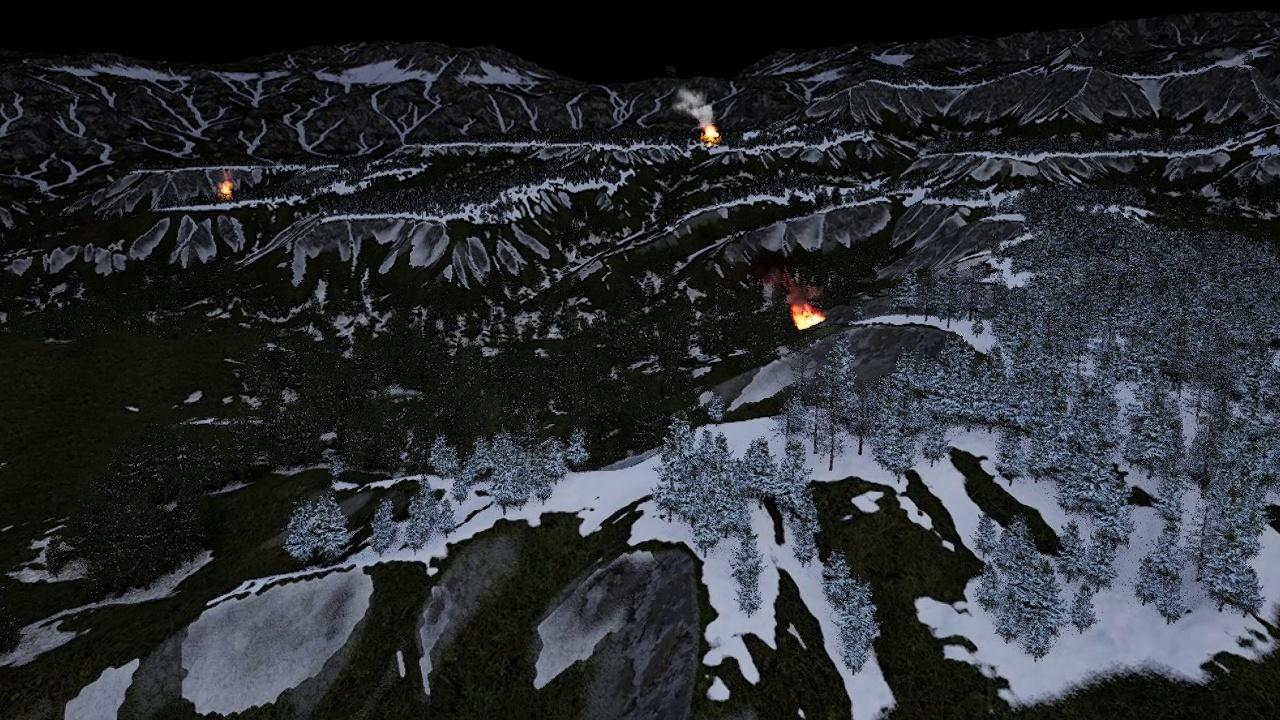fire: (790, 306, 822, 328), (703, 124, 720, 142), (218, 180, 233, 199)
smoke: (760, 269, 816, 308), (672, 87, 716, 125), (222, 167, 235, 181)
